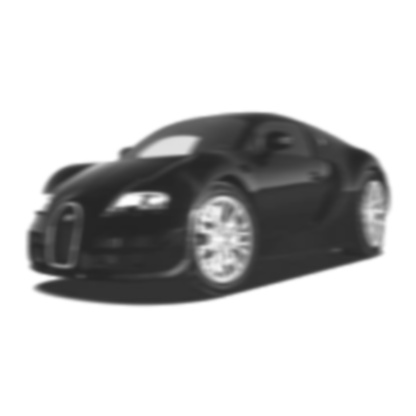Vehicle: (25, 111, 392, 297)
